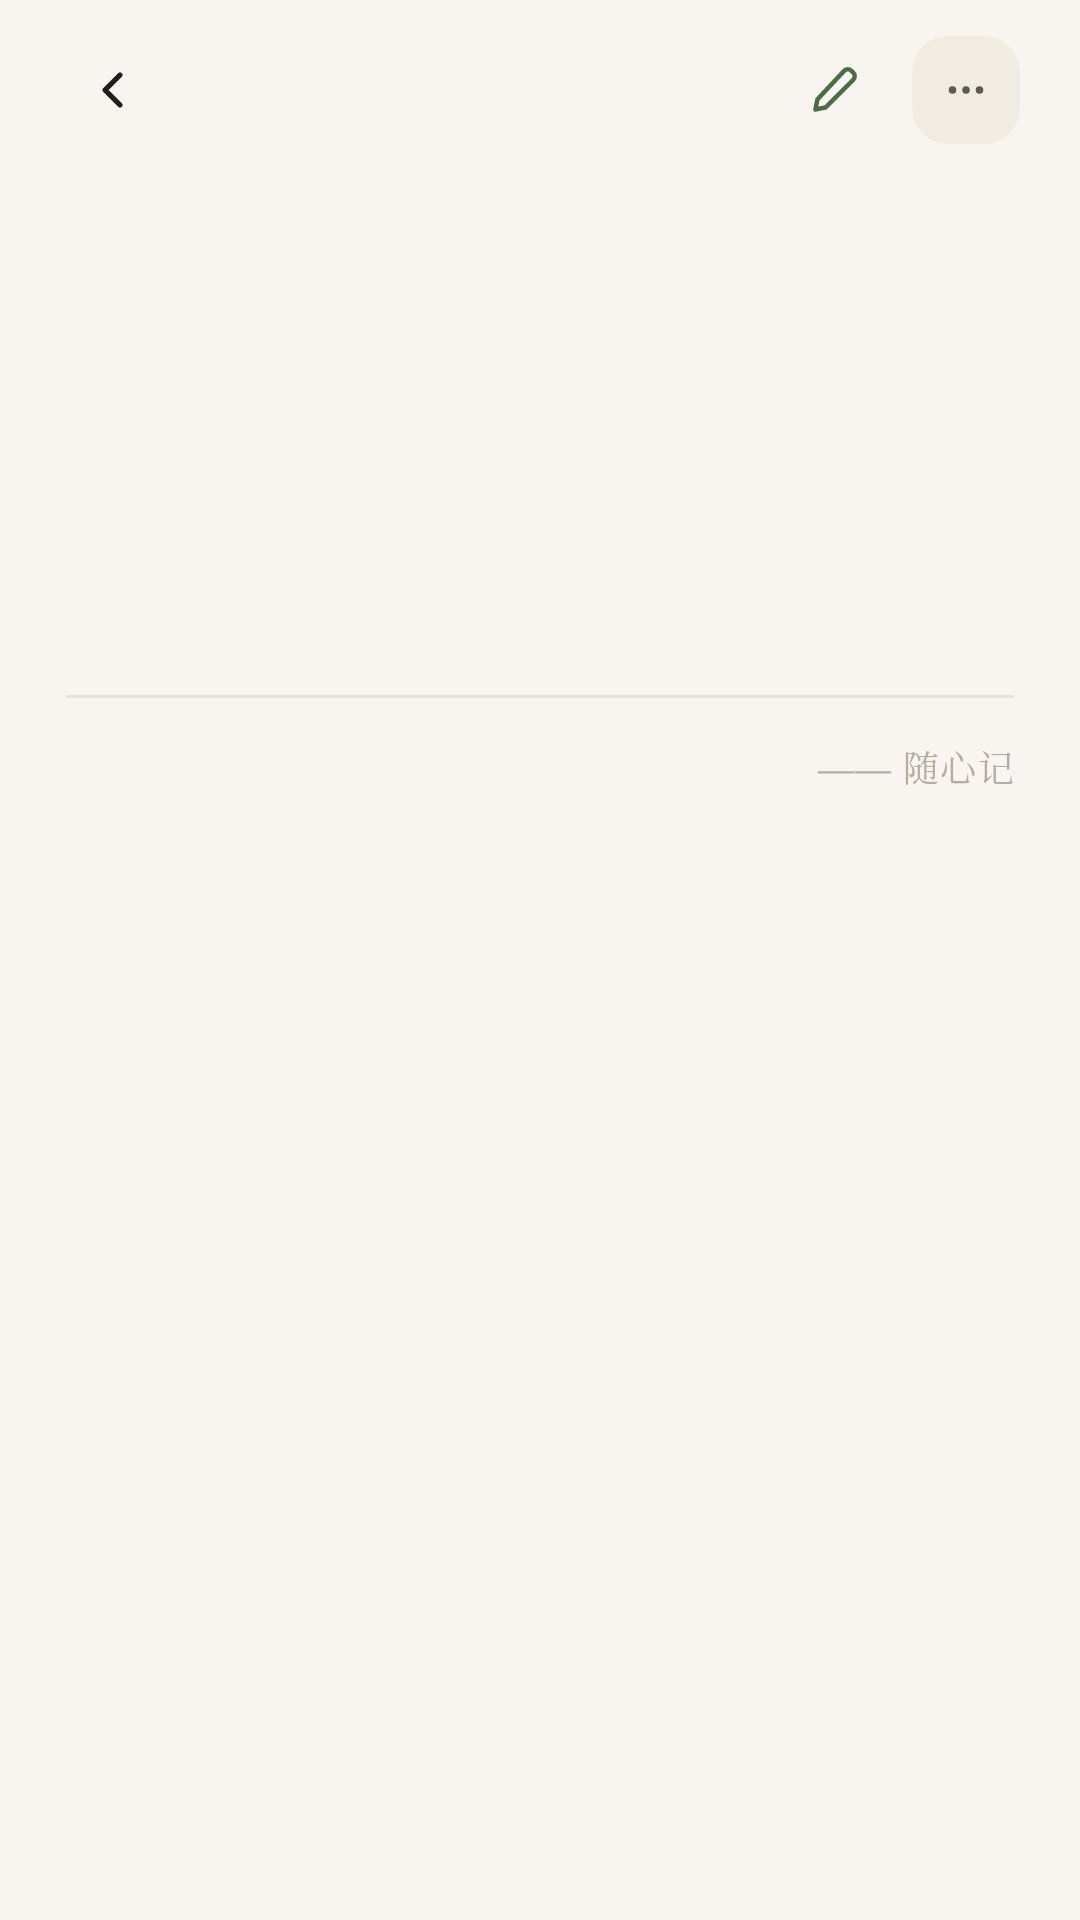

Locate icon controls on the screen. Image size 1080x1920, boxes as (x1, y1, x2, y2).
更多操作: (948, 86, 984, 94)
编辑: (813, 67, 857, 112)
返回: (102, 72, 123, 108)
